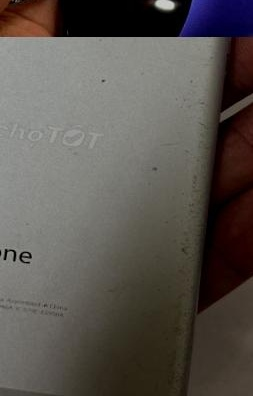scratch: (151, 37, 251, 396)
